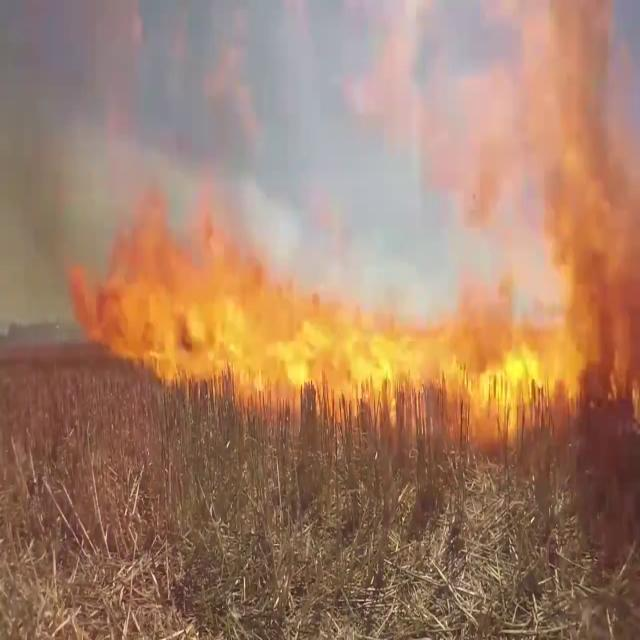Fire: (67, 200, 606, 420)
Smoke: (548, 2, 640, 410), (0, 1, 96, 343)
